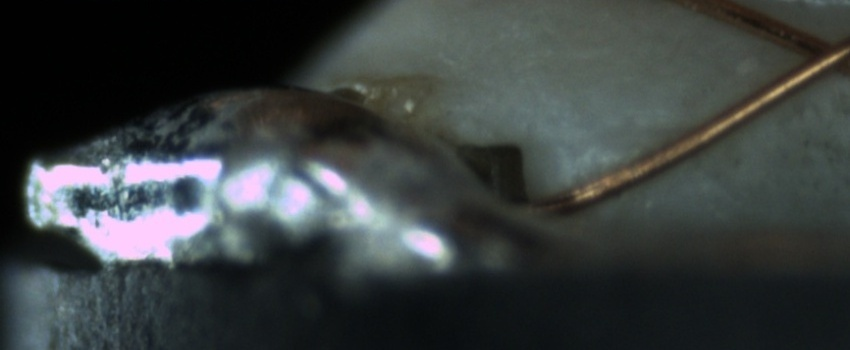CL: (769, 16, 848, 95)
DL: (571, 101, 697, 160)
